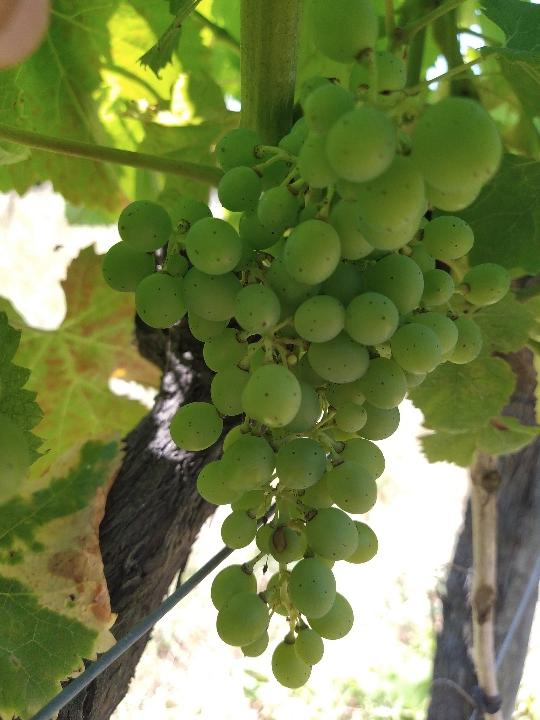grape: (99, 2, 510, 690)
